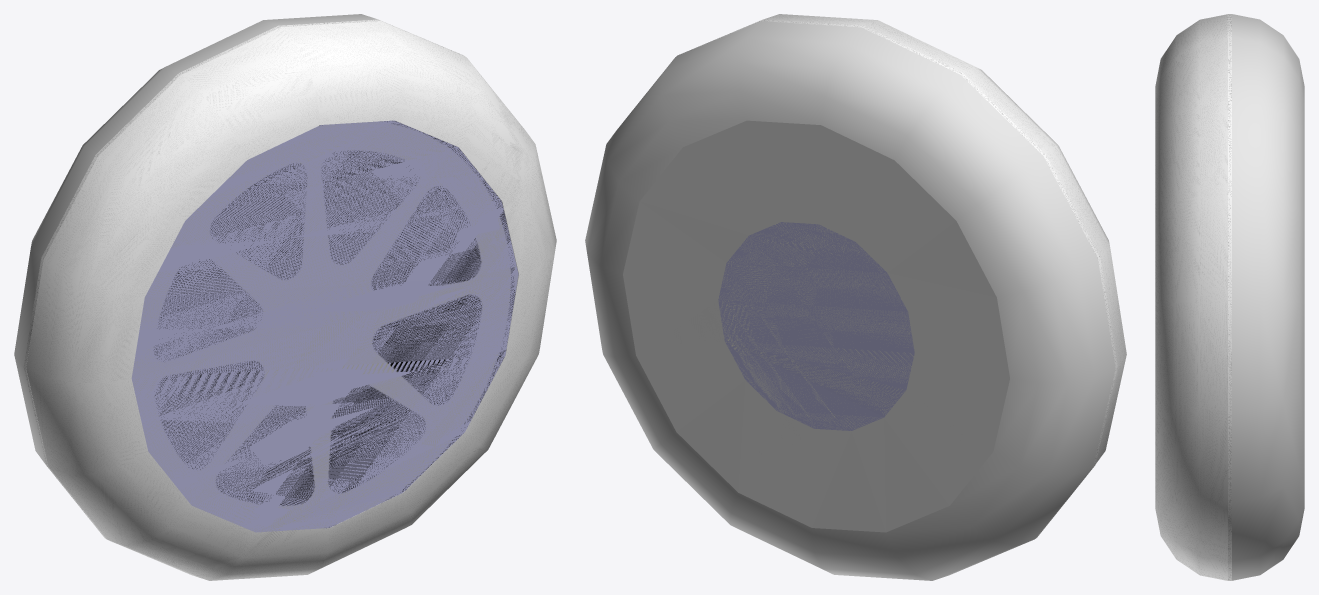
Rendered from middle_wheel_right.dae.
3 renders of one model, left to right at view 1: azimuth 30°, elevation 25°; view 2: azimuth 150°, elevation 25°; view 3: azimuth 270°, elevation 25°, orthographic. The views are drawn at different scales.
Parts seen in each view (by area): view 1: group_50, group_47, group_48, group_44; view 2: group_48, group_46, group_46.001, group_47, group_44; view 3: group_47, group_48, group_44.
Part boxes in pixels (bbox=[...]): group_50: bbox=[131, 120, 518, 532]; group_47: bbox=[26, 21, 556, 580]; group_48: bbox=[14, 14, 518, 537]; group_44: bbox=[23, 19, 464, 575]; group_48: bbox=[585, 21, 1115, 580]; group_46: bbox=[623, 120, 1009, 532]; group_46.001: bbox=[718, 222, 914, 430]; group_47: bbox=[677, 14, 1126, 463]; group_44: bbox=[676, 19, 1117, 538]; group_47: bbox=[1155, 14, 1227, 580]; group_48: bbox=[1232, 14, 1304, 580]; group_44: bbox=[1227, 14, 1231, 580].
Size of the model in its own units: 0.2653 by 0.0699 by 0.2649.
Materials: 7 (1 with a texture image).
